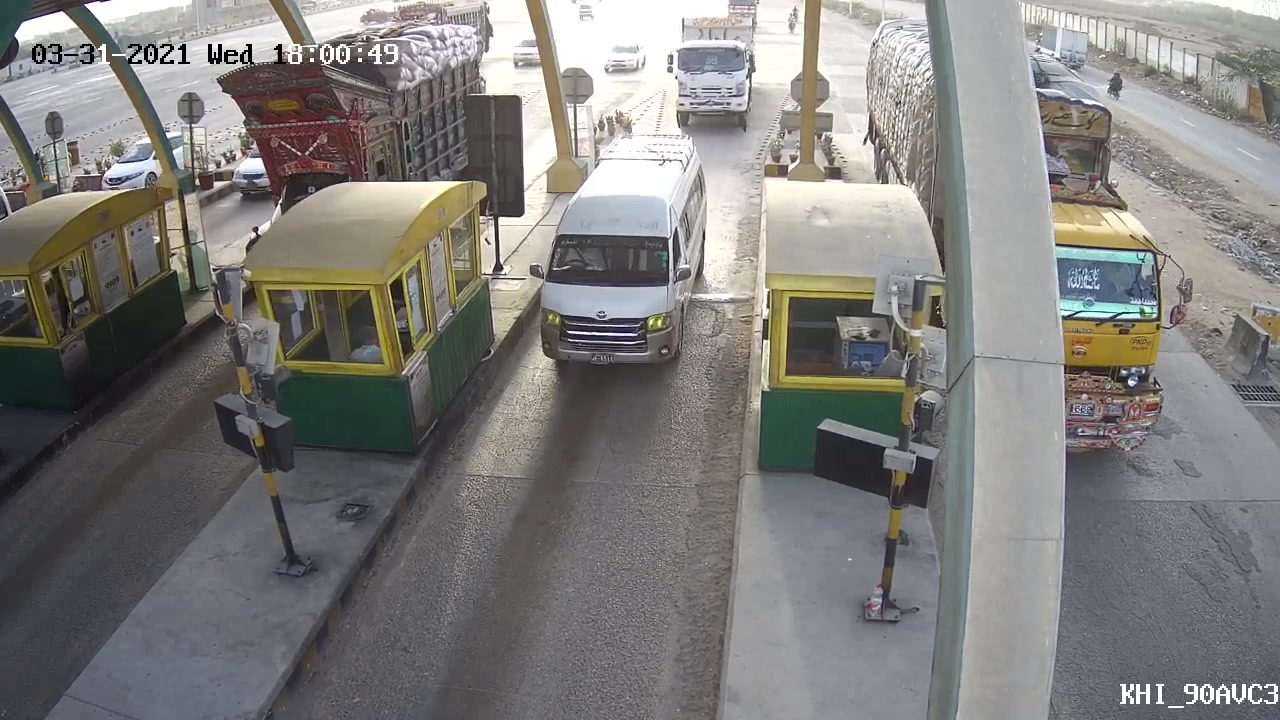F2: (524, 130, 718, 377)
